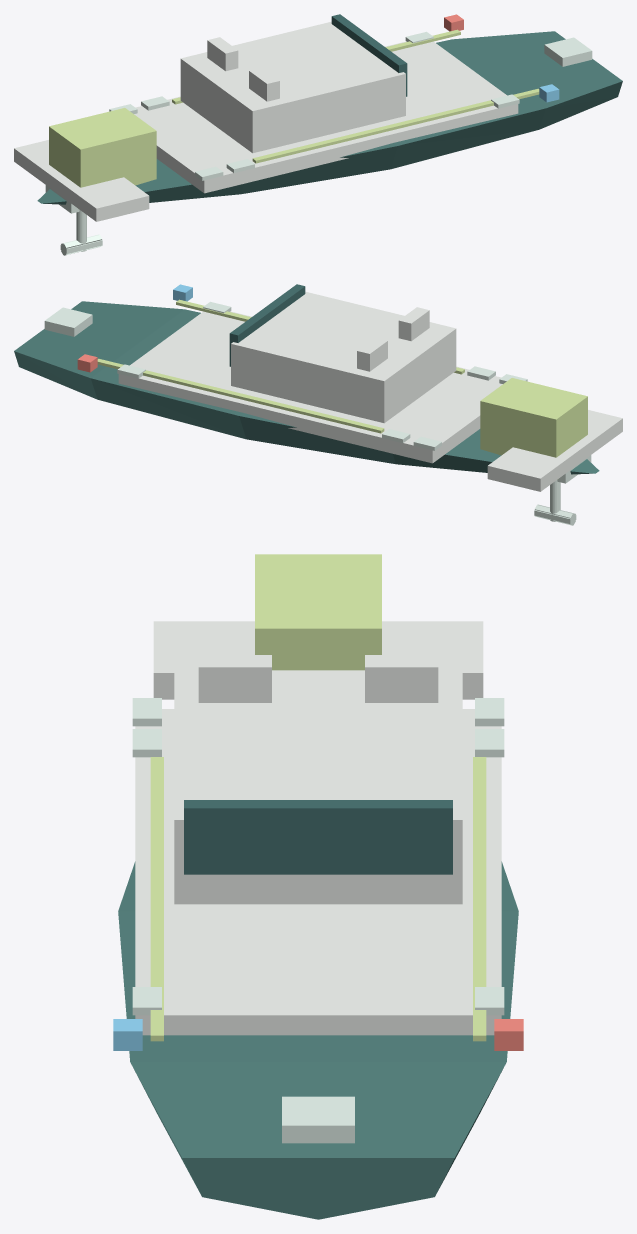
The model's file is solaris_gt_electric.glb.
The picture shows the model from 3 angles, top to bottom: view 1: azimuth 30°, elevation 25°; view 2: azimuth 150°, elevation 25°; view 3: azimuth 270°, elevation 25°; orthographic projection. The views are drawn at different scales.
Visible parts, largest first — view 1: 02_Sculpted_cockpit_pod, 00_Sculpted_V_planing_hull, 01_Upper_deck, 17_High_performance_engine_cowl, 26_Stern_swim_platform, 10_Racing_pinstripe, 03_Tinted_panoramic_windshield, 23_Bow_cleat, 05_Seat_back, 07_Seat_back, 09_Racing_pinstripe, 19_Drive_shaft; view 2: 02_Sculpted_cockpit_pod, 00_Sculpted_V_planing_hull, 01_Upper_deck, 17_High_performance_engine_cowl, 26_Stern_swim_platform, 09_Racing_pinstripe, 03_Tinted_panoramic_windshield, 23_Bow_cleat, 07_Seat_back, 05_Seat_back, 10_Racing_pinstripe, 19_Drive_shaft; view 3: 00_Sculpted_V_planing_hull, 01_Upper_deck, 02_Sculpted_cockpit_pod, 03_Tinted_panoramic_windshield, 17_High_performance_engine_cowl, 26_Stern_swim_platform, 09_Racing_pinstripe, 10_Racing_pinstripe, 05_Seat_back, 07_Seat_back, 23_Bow_cleat, 24_Navigation_light (+1 smaller).
Part boxes in pixels (x1=…): 02_Sculpted_cockpit_pod: x1=180, y1=21, x2=405, y2=153; 00_Sculpted_V_planing_hull: x1=37, y1=31, x2=622, y2=204; 01_Upper_deck: x1=134, y1=41, x2=518, y2=193; 17_High_performance_engine_cowl: x1=49, y1=108, x2=156, y2=187; 26_Stern_swim_platform: x1=14, y1=140, x2=149, y2=221; 10_Racing_pinstripe: x1=252, y1=88, x2=539, y2=163; 03_Tinted_panoramic_windshield: x1=331, y1=14, x2=407, y2=96; 23_Bow_cleat: x1=544, y1=37, x2=592, y2=66; 05_Seat_back: x1=207, y1=37, x2=238, y2=71; 07_Seat_back: x1=249, y1=67, x2=279, y2=101; 09_Racing_pinstripe: x1=172, y1=29, x2=460, y2=104; 19_Drive_shaft: x1=76, y1=210, x2=86, y2=251; 02_Sculpted_cockpit_pod: x1=231, y1=291, x2=456, y2=423; 00_Sculpted_V_planing_hull: x1=14, y1=301, x2=599, y2=474; 01_Upper_deck: x1=118, y1=311, x2=502, y2=463; 17_High_performance_engine_cowl: x1=480, y1=378, x2=587, y2=457; 26_Stern_swim_platform: x1=487, y1=410, x2=622, y2=491; 09_Racing_pinstripe: x1=97, y1=358, x2=384, y2=433; 03_Tinted_panoramic_windshield: x1=229, y1=284, x2=305, y2=366; 23_Bow_cleat: x1=44, y1=307, x2=92, y2=336; 07_Seat_back: x1=398, y1=307, x2=429, y2=341; 05_Seat_back: x1=357, y1=337, x2=387, y2=371; 10_Racing_pinstripe: x1=176, y1=299, x2=464, y2=374; 19_Drive_shaft: x1=550, y1=480, x2=560, y2=521; 00_Sculpted_V_planing_hull: x1=118, y1=861, x2=518, y2=1219; 01_Upper_deck: x1=135, y1=709, x2=501, y2=1035; 02_Sculpted_cockpit_pod: x1=174, y1=670, x2=462, y2=904; 03_Tinted_panoramic_windshield: x1=184, y1=800, x2=452, y2=874; 17_High_performance_engine_cowl: x1=255, y1=554, x2=381, y2=670; 26_Stern_swim_platform: x1=153, y1=621, x2=483, y2=699; 09_Racing_pinstripe: x1=473, y1=757, x2=486, y2=1041; 10_Racing_pinstripe: x1=150, y1=757, x2=163, y2=1041; 05_Seat_back: x1=365, y1=655, x2=438, y2=702; 07_Seat_back: x1=198, y1=655, x2=271, y2=702; 23_Bow_cleat: x1=282, y1=1096, x2=354, y2=1143; 24_Navigation_light: x1=494, y1=1019, x2=523, y2=1050.
Size of the model in its own units: 5.19 by 1.36 by 1.68.
